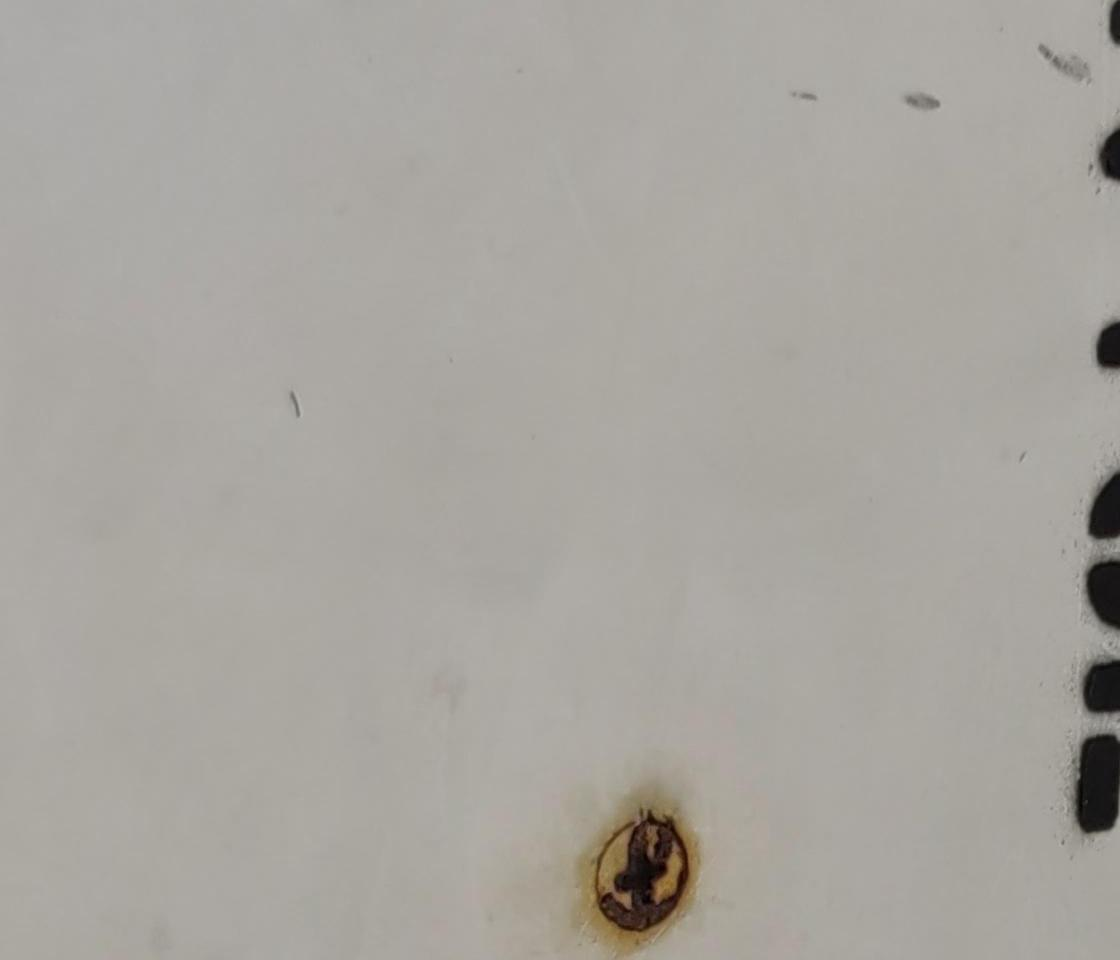rivet_damage: (578, 806, 703, 940)
